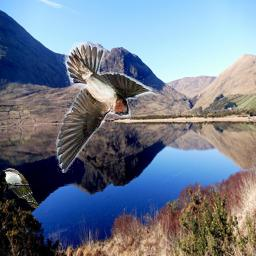Cuckoo: (2, 168, 40, 209)
Swallow: (56, 43, 159, 174)
